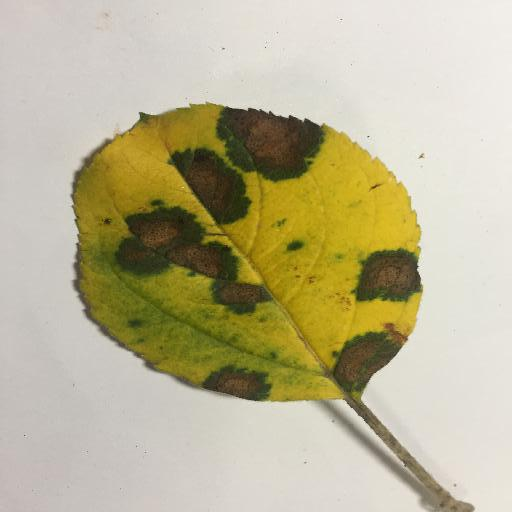Brown_Spot: (129, 208, 250, 307), (220, 116, 313, 170), (186, 150, 235, 220), (338, 332, 398, 383), (354, 255, 414, 298), (206, 365, 271, 398)
